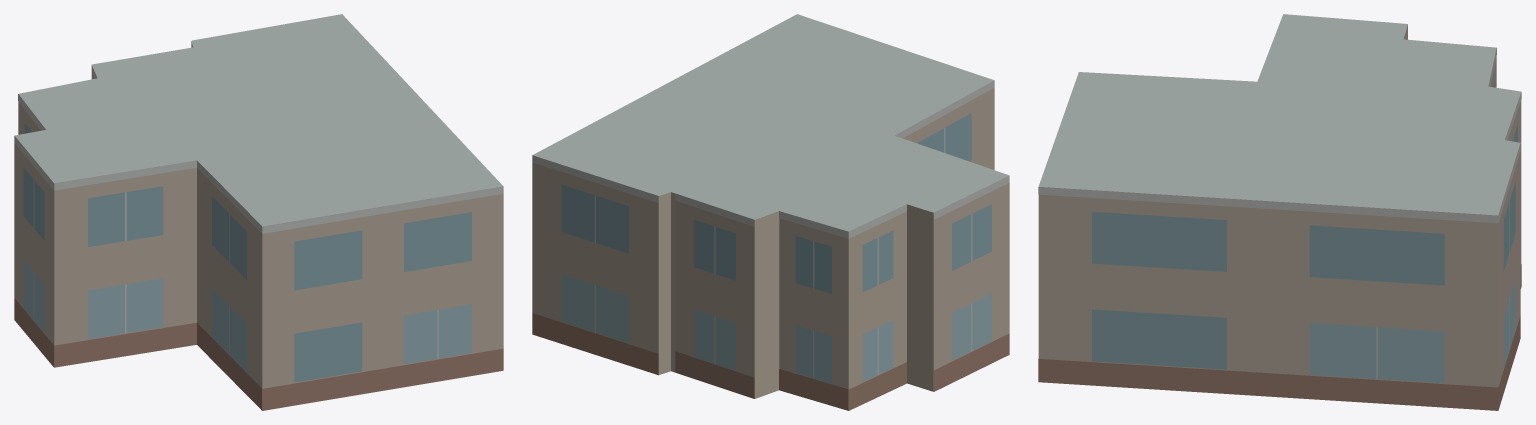
The model's file is survey-upis-32689478.glb.
3 views of the same model, side by side, from view 1: azimuth 30°, elevation 25°; view 2: azimuth 150°, elevation 25°; view 3: azimuth 270°, elevation 25° (orthographic). The views are drawn at different scales.
Parts seen in each view (by area): view 1: survey-upis-32689478.tmp; view 2: survey-upis-32689478.tmp; view 3: survey-upis-32689478.tmp.
Part boxes in pixels (x1=…): survey-upis-32689478.tmp: x1=14, y1=14, x2=503, y2=410; survey-upis-32689478.tmp: x1=532, y1=14, x2=1009, y2=410; survey-upis-32689478.tmp: x1=1038, y1=14, x2=1521, y2=410.
Bounding box in the file's own units: 13.5 × 6.1 × 13.68.
